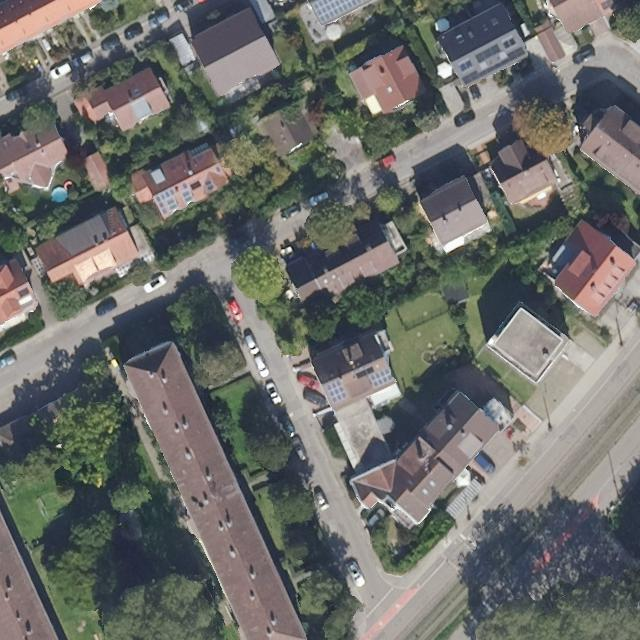PV: (460, 45, 528, 87), (311, 0, 372, 23), (153, 187, 181, 217), (474, 43, 502, 65), (326, 378, 348, 405), (368, 367, 393, 389), (181, 189, 194, 204), (204, 179, 216, 191)
